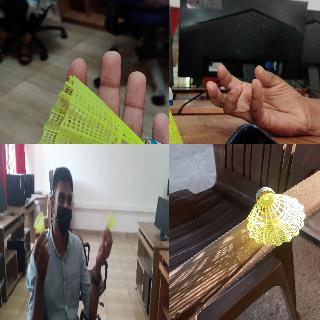shuttlecock: (29, 73, 168, 143), (247, 187, 305, 245), (169, 81, 192, 143), (34, 211, 44, 233), (107, 210, 115, 229)
